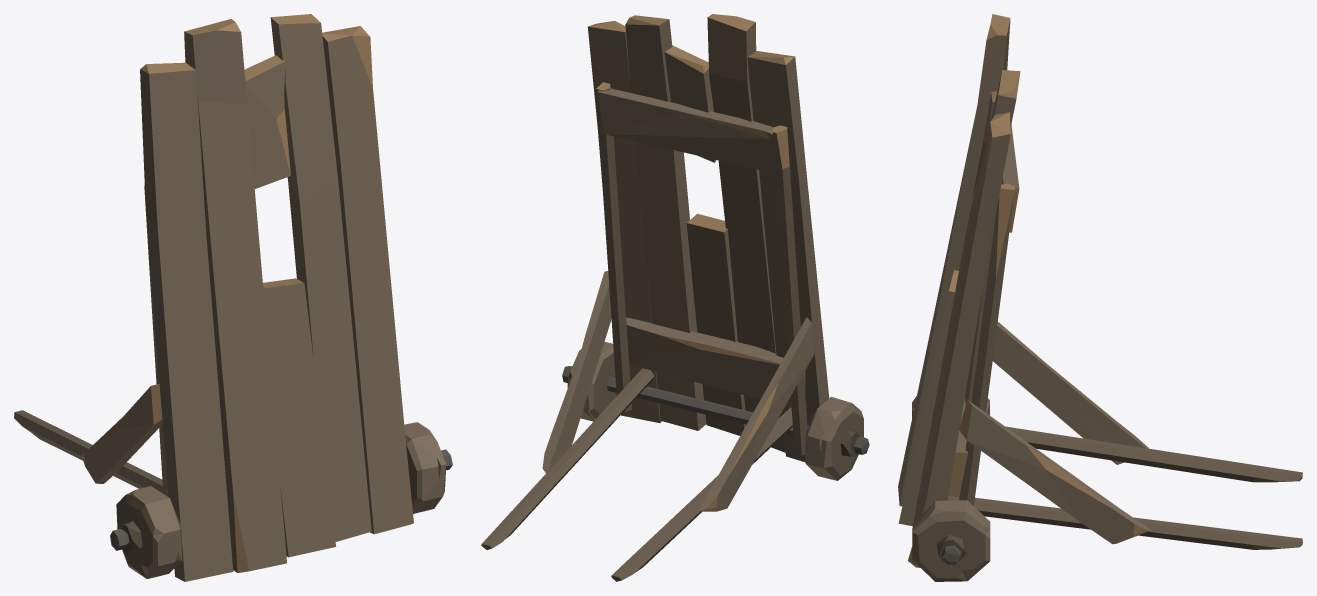
File: kingdom_SM_Prop_Arrow_Guard_01.gltf
3 views of the same model, side by side, from view 1: azimuth 30°, elevation 25°; view 2: azimuth 150°, elevation 25°; view 3: azimuth 270°, elevation 25° (orthographic). The views are drawn at different scales.
Visible parts, largest first — view 1: SM_Prop_Arrow_Guard_01; view 2: SM_Prop_Arrow_Guard_01; view 3: SM_Prop_Arrow_Guard_01.
Boxes of the visible parts, box(x1,y1,x2,y2) form: SM_Prop_Arrow_Guard_01: box(14, 14, 452, 581); SM_Prop_Arrow_Guard_01: box(481, 14, 869, 581); SM_Prop_Arrow_Guard_01: box(898, 14, 1302, 581).
Size of the model in its own units: 1.7 by 2.47 by 1.9.
1 material, 1 textured.
